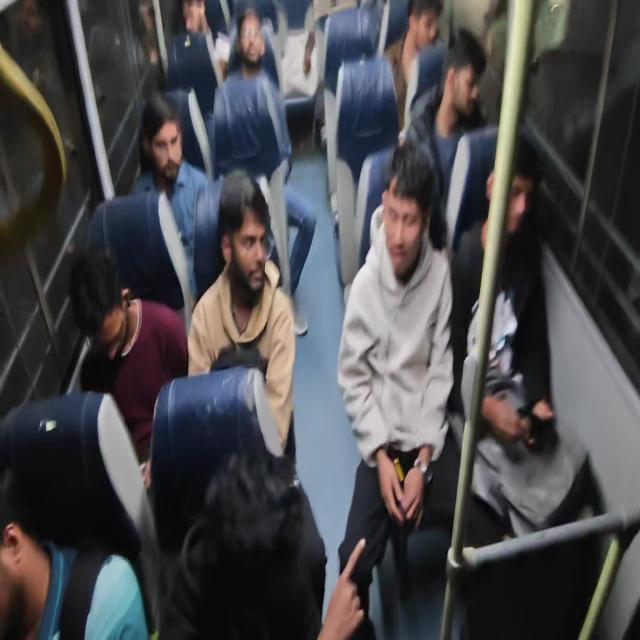person: (200, 438, 334, 640), (0, 447, 58, 640), (381, 136, 442, 296), (66, 242, 139, 370), (214, 162, 275, 309), (484, 142, 549, 258), (441, 24, 490, 150), (136, 92, 204, 182), (232, 5, 271, 79), (406, 0, 443, 49), (174, 0, 208, 50)
